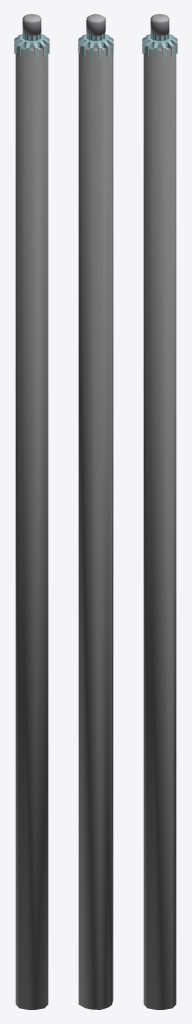
The model's file is SkyCablePost.fbx.
The picture shows the model from 3 angles, left to right: view 1: azimuth 90°, elevation 25°; view 2: azimuth 150°, elevation 25°; view 3: azimuth 270°, elevation 25°; orthographic projection.
Visible parts, largest first — view 1: SkyCablePost, SkyCablePost_Gear; view 2: SkyCablePost, SkyCablePost_Gear; view 3: SkyCablePost, SkyCablePost_Gear.
Part boxes in pixels (bbox=[...]): SkyCablePost: bbox=[15, 14, 48, 1009]; SkyCablePost_Gear: bbox=[14, 34, 49, 58]; SkyCablePost: bbox=[78, 14, 113, 1009]; SkyCablePost_Gear: bbox=[78, 34, 113, 58]; SkyCablePost: bbox=[143, 14, 176, 1009]; SkyCablePost_Gear: bbox=[142, 34, 177, 58].
Size of the model in its own units: 64.82 by 64.82 by 1979.
